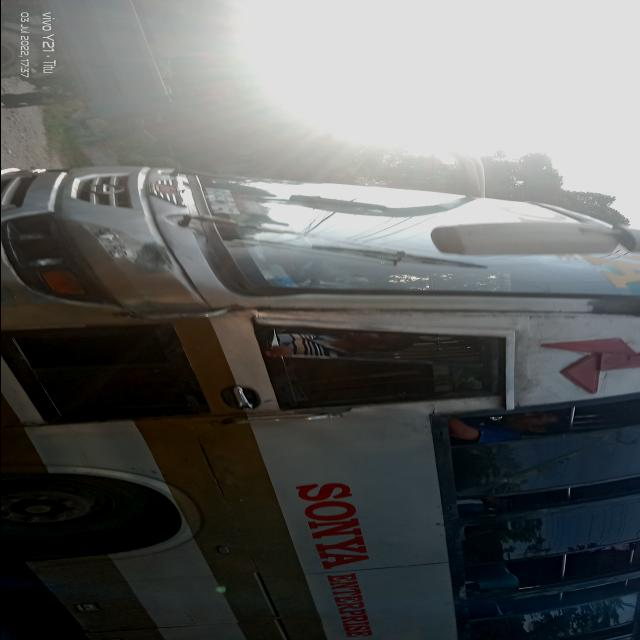bus: (1, 163, 640, 640)
